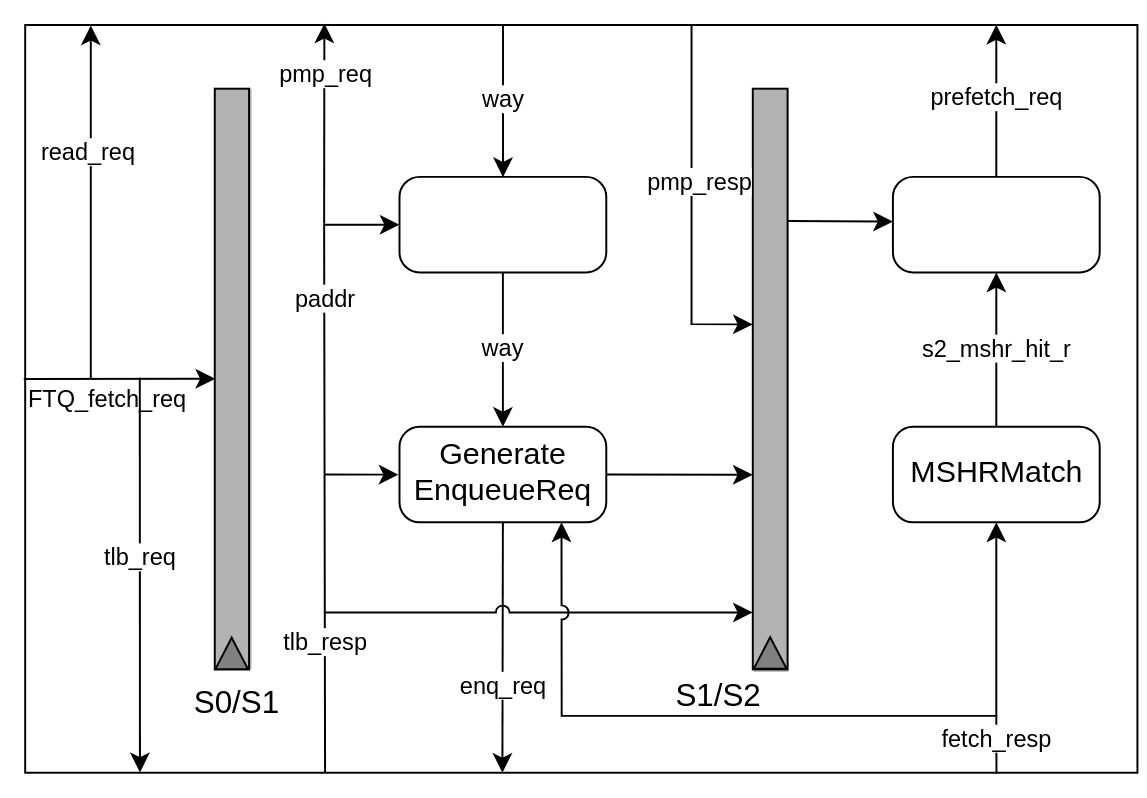
This 1147x798 diagram has some shape labels left out. The shapes that lost their labels are listed below. From the top down, each one's box as (x1, y1, x2, y2) in pixels, then its label:
(398, 176, 607, 273): MetaMatch
(892, 176, 1100, 273): Prefetch Handle
